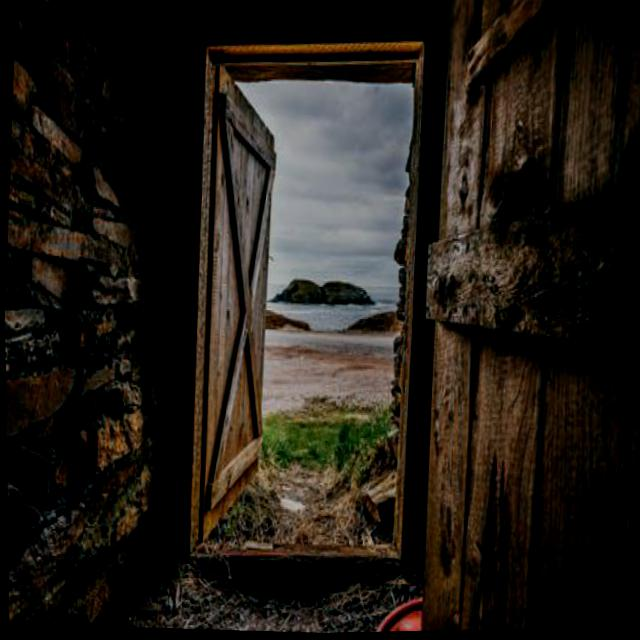open: (168, 10, 440, 592)
